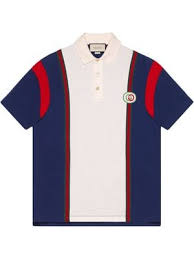S_polo shirt: (8, 34, 190, 231)
